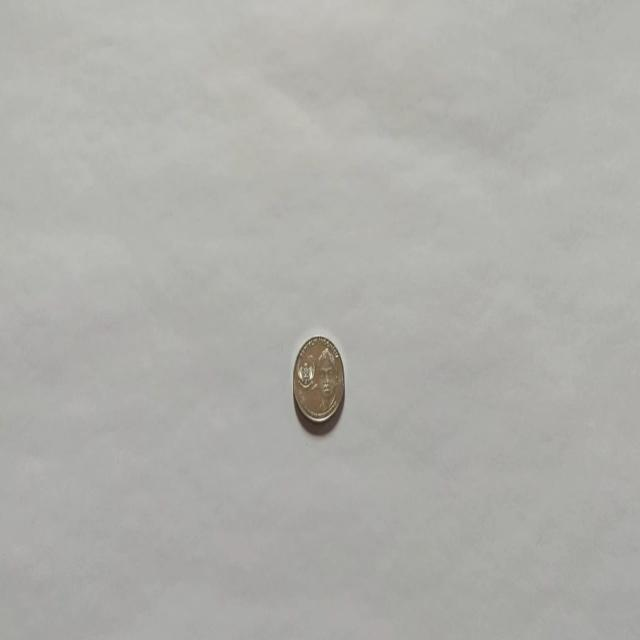dua ratus rupiah: (292, 333, 344, 425)
